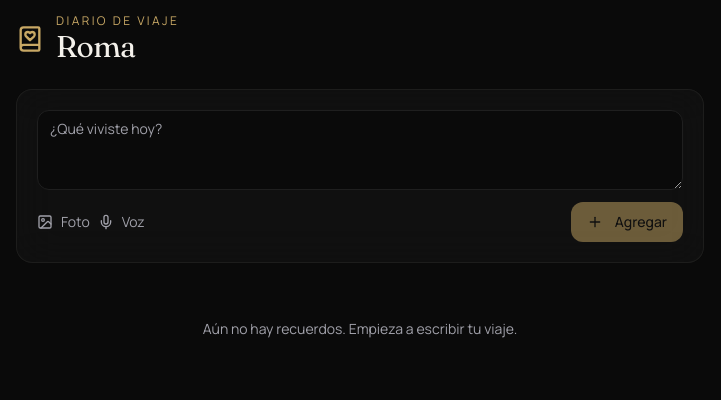
nota de voz en el diario (grabación + transcripción en el servidor) › si niega el permiso, el botón explica cómo activarlo y no se rompe nada
Check: the heading "Roma" is shown, box [56,28,136,65]
Click the button with aria-label "Grabar nota de voz": click(121, 222) [98,212,145,232]
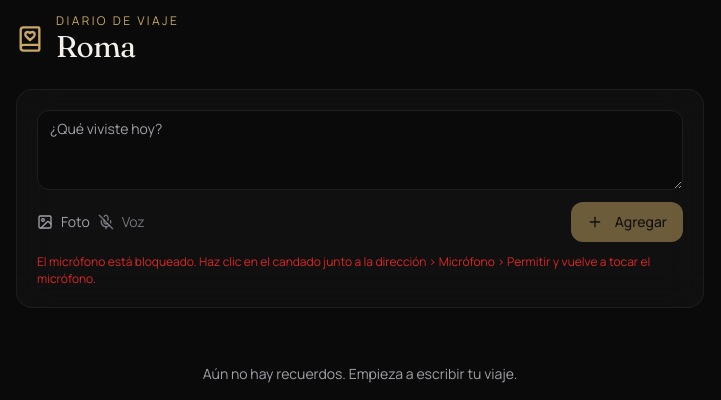
Check: the message shows "El micrófono está bloqueado", box [37,253,650,286]
In the text box named "Entrada del diario": (360, 150) [37,110,683,190], type "Lo escribo"
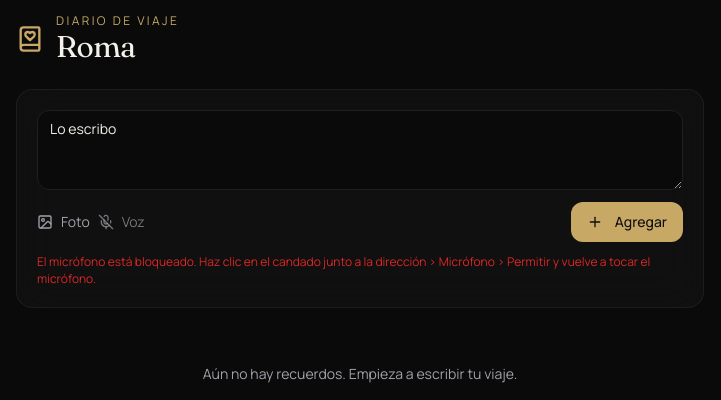
Check: the button with aria-label "Micrófono bloqueado: cómo activarlo" is enabled, box [98,212,145,232]
Check: the button "Agregar" is enabled, box [571,202,683,242]
